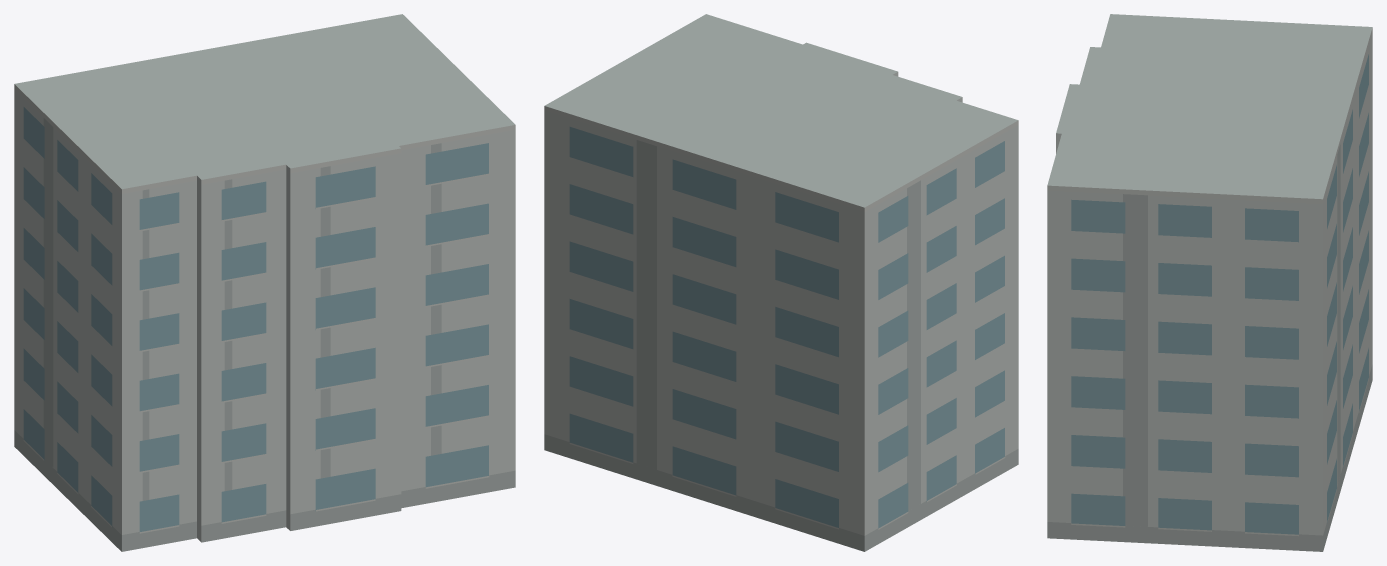
File: survey-upis-32878865.glb
3 renders of one model, left to right at view 1: azimuth 30°, elevation 25°; view 2: azimuth 150°, elevation 25°; view 3: azimuth 270°, elevation 25°, orthographic. The views are drawn at different scales.
Parts seen in each view (by area): view 1: survey-upis-32878865.tmp; view 2: survey-upis-32878865.tmp; view 3: survey-upis-32878865.tmp.
Boxes of the visible parts, bbox=[...] form: survey-upis-32878865.tmp: bbox=[14, 14, 515, 551]; survey-upis-32878865.tmp: bbox=[544, 14, 1018, 551]; survey-upis-32878865.tmp: bbox=[1047, 14, 1372, 551].
Size of the model in its own units: 20.28 by 18 by 15.06.
